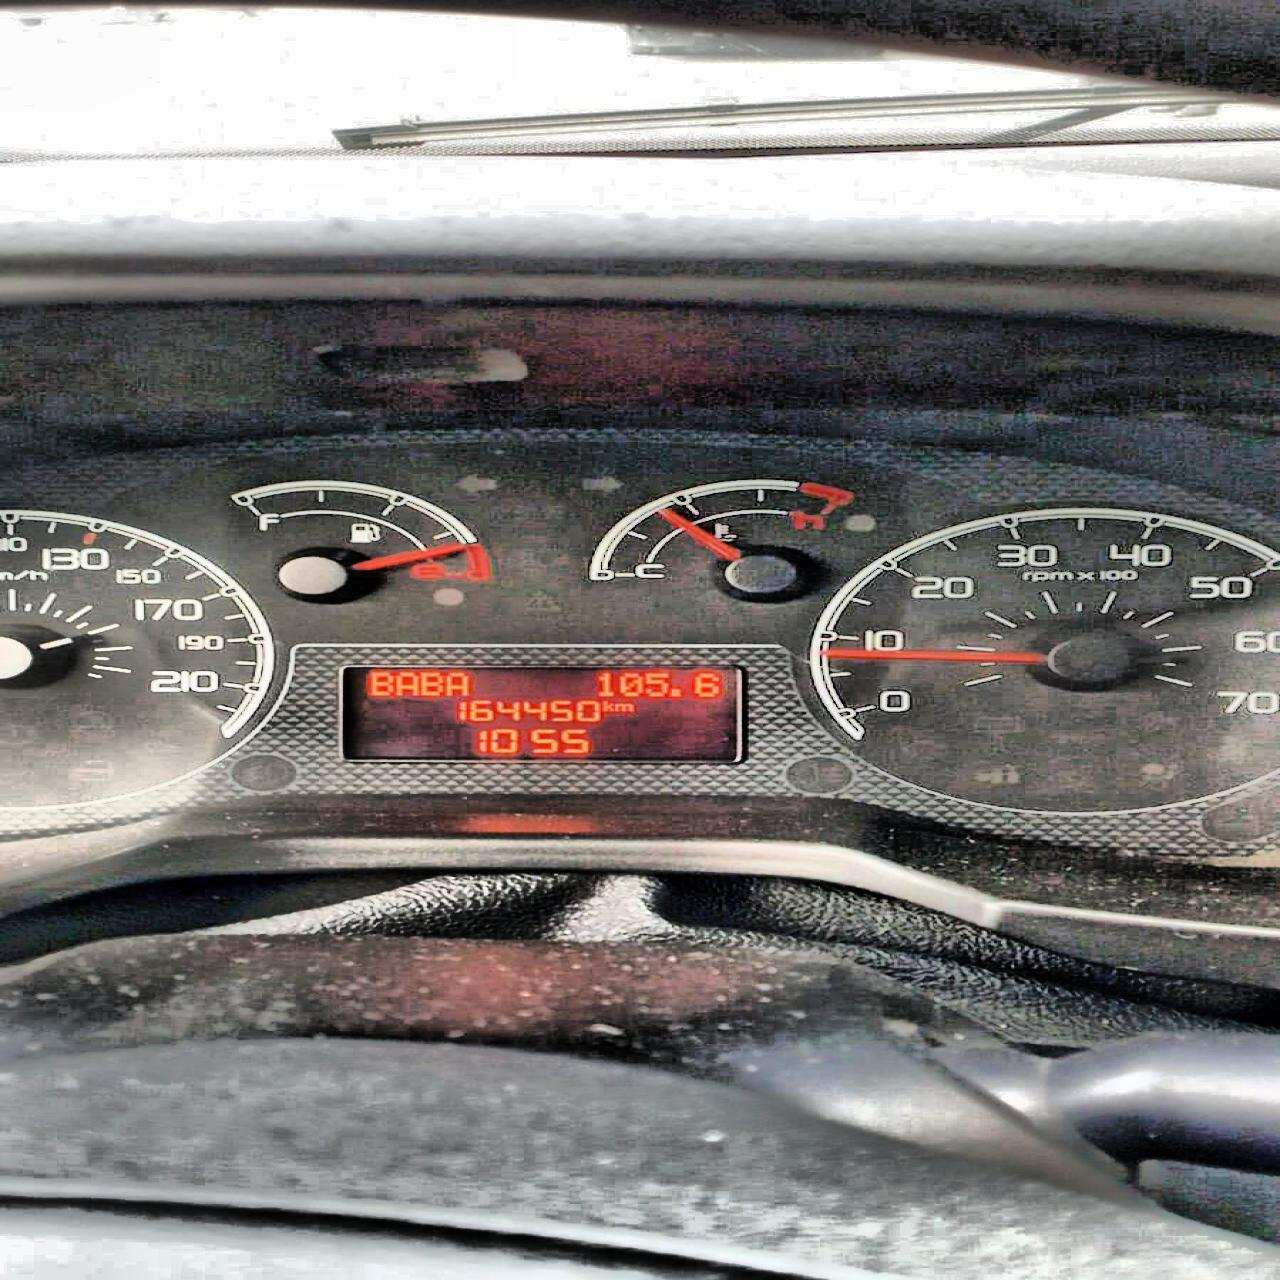-: (668, 686, 685, 697)
0: (489, 727, 517, 754), (572, 697, 601, 722), (618, 670, 644, 697)
1: (594, 669, 615, 697), (475, 727, 486, 754), (456, 699, 468, 723)
4: (496, 699, 519, 722), (523, 699, 546, 721)
5: (527, 727, 558, 754), (560, 727, 588, 754), (644, 670, 667, 696), (549, 699, 572, 722)
6: (692, 672, 722, 699), (469, 699, 491, 721)
X: (444, 669, 471, 696), (369, 669, 394, 696), (418, 669, 442, 696), (395, 670, 417, 696), (614, 701, 632, 713), (599, 699, 613, 712)
odometer: (333, 662, 753, 769)
